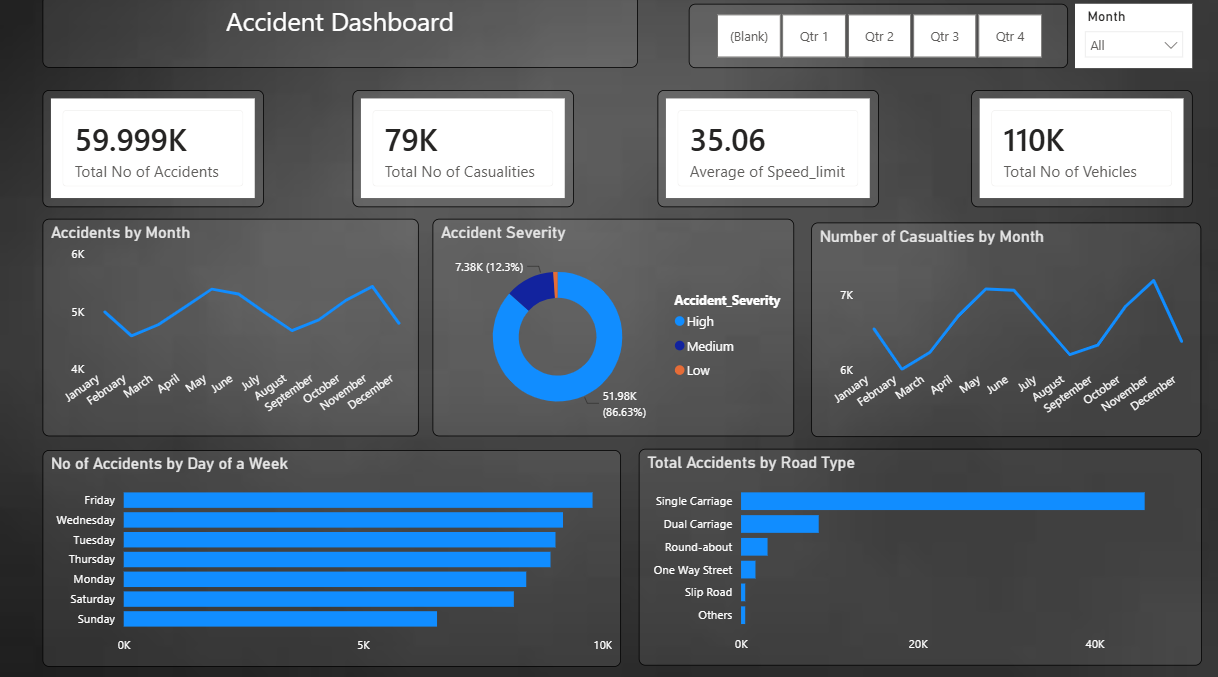

Layout of this report page (visuals, bound fields, positions):
{"tool":"powerbi","page":{"name":"Page 1","canvas":[1280,720],"ordinal":0},"visuals":[{"type":"textbox","box":[45,0,621.4,76.3],"z":0},{"type":"lineChart","title":"Accidents by Month","fields":{"Category":["Accident Data Analysis.Date.Variation.Date Hierarchy.Month"],"Y":["CountNonNull(Accident Data Analysis.Accident_Index)"]},"box":[45,233.8,392.6,227.5],"z":1000},{"type":"donutChart","title":"Accident Severity","fields":{"Y":["CountNonNull(Accident Data Analysis.Accident_Severity)"],"Category":["Accident Data Analysis.Accident_severity_New"]},"box":[451.3,233.8,377.6,227.5],"z":2000},{"type":"barChart","title":"No of Accidents by Day of a  Week","fields":{"Y":["CountNonNull(Accident Data Analysis.Accident_Index)"],"Category":["Accident Data Analysis.Days_in_week"]},"box":[45,475.1,603.9,226.3],"z":3000},{"type":"clusteredBarChart","title":"Total Accidents by Road Type","fields":{"Y":["CountNonNull(Accident Data Analysis.Accident_Index)"],"Category":["Accident Data Analysis.Road Type"]},"box":[666.4,473.8,587.6,226.3],"z":4000},{"type":"lineChart","title":"Number of Casualties by Month","fields":{"Category":["Accident Data Analysis.Date.Variation.Date Hierarchy.Month"],"Y":["Sum(Accident Data Analysis.Number_of_Casualties)"]},"box":[846.4,237.5,407.6,223.8],"z":5000},{"type":"cardVisual","title":"Sum","fields":{"Data":["Count(Accident Data Analysis.Accident_Index)"]},"box":[45,98.8,231.3,122.5],"z":6000},{"type":"cardVisual","title":"Sum","fields":{"Data":["Sum(Accident Data Analysis.Number_of_Casualties)"]},"box":[367.6,98.8,231.3,122.5],"z":7000},{"type":"cardVisual","title":"Sum","fields":{"Data":["Avg(Accident Data Analysis.Speed_limit)"]},"box":[686.4,98.8,231.3,122.5],"z":8000},{"type":"cardVisual","title":"Sum","fields":{"Data":["Sum(Accident Data Analysis.Number_of_Vehicles)"]},"box":[1014,98.8,231.3,122.5],"z":9000},{"type":"slicer","fields":{"Values":["Accident Data Analysis.Date.Variation.Date Hierarchy.Quarter"]},"box":[718.9,8.8,396.3,67.5],"z":10000},{"type":"slicer","fields":{"Values":["Accident Data Analysis.Date.Variation.Date Hierarchy.Month"]},"box":[1122.7,8.8,122.5,67.5],"z":11000}]}

Visuals, with their boxes in screenshot pixels (x1, y1, x2, y2), scaled from the page's 1280x720 canvas onto the 1218x677 screenshot:
textbox: bbox=[43, 0, 634, 72]
"Accidents by Month" lineChart: bbox=[43, 220, 416, 434]
"Accident Severity" donutChart: bbox=[429, 220, 789, 434]
"No of Accidents by Day of a  Week" barChart: bbox=[43, 447, 617, 660]
"Total Accidents by Road Type" clusteredBarChart: bbox=[634, 446, 1193, 658]
"Number of Casualties by Month" lineChart: bbox=[805, 223, 1193, 434]
"Sum" cardVisual: bbox=[43, 93, 263, 208]
"Sum" cardVisual: bbox=[350, 93, 570, 208]
"Sum" cardVisual: bbox=[653, 93, 873, 208]
"Sum" cardVisual: bbox=[965, 93, 1185, 208]
slicer - Accident Data Analysis.Date.Variation.Date Hierarchy.Quarter: bbox=[684, 8, 1061, 72]
slicer - Accident Data Analysis.Date.Variation.Date Hierarchy.Month: bbox=[1068, 8, 1185, 72]
